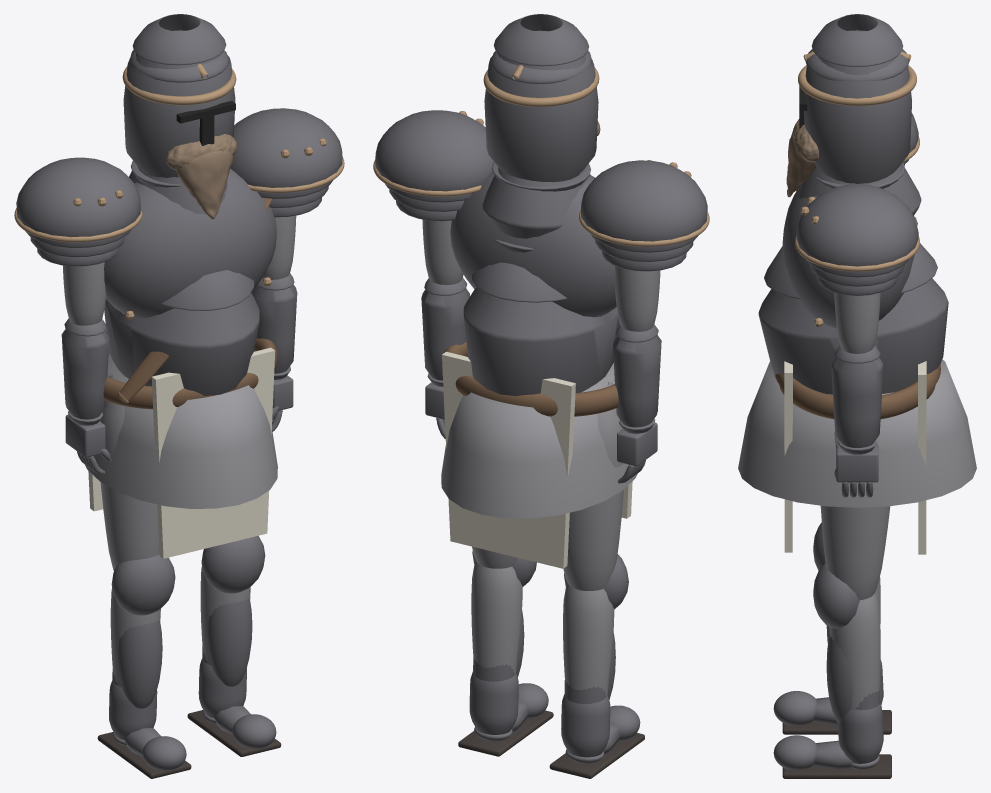
Rendered from Bastion.fbx.
3 views of the same model, side by side, from view 1: azimuth 30°, elevation 25°; view 2: azimuth 150°, elevation 25°; view 3: azimuth 270°, elevation 25° (orthographic).
Parts seen in each view (by area): view 1: Coraza pesada, Faldon claro, Yelmo, Tabardo, Hombrera_D_0, Hombrera_I_0, Femur_D, Brazal_D, Bota_I_ferrada, Bota_D_ferrada, Barba, Greba_D (+22 smaller); view 2: Coraza pesada, Faldon claro, Yelmo, Tabardo, Hombrera_D_0, Hombrera_I_0, Femur_D, Tibia_I, Tibia_D, Gola alta, Brazal_D, Bota_I_ferrada (+21 smaller); view 3: Faldon claro, Coraza pesada, Yelmo, Hombrera_I_0, Femur_I, Brazal_I, Bota_I_ferrada, Tibia_I, Tabardo, Humero_I, Cinturon, Rodillera_I (+13 smaller).
Part boxes in pixels (x1,y1,x2,y2): Coraza pesada: (104, 168, 276, 395); Faldon claro: (85, 354, 277, 508); Yelmo: (123, 14, 235, 187); Tabardo: (88, 329, 275, 558); Hombrera_D_0: (16, 157, 140, 237); Hombrera_I_0: (230, 108, 342, 187); Femur_D: (100, 375, 159, 570); Brazal_D: (61, 318, 109, 425); Bota_I_ferrada: (198, 658, 276, 749); Bota_D_ferrada: (109, 681, 186, 770); Barba: (166, 134, 237, 219); Greba_D: (117, 620, 162, 708); Coraza pesada: (450, 171, 620, 396); Faldon claro: (441, 363, 637, 518); Yelmo: (484, 14, 598, 191); Tabardo: (442, 351, 632, 568); Hombrera_D_0: (580, 160, 707, 241); Hombrera_I_0: (375, 110, 493, 191); Femur_D: (563, 382, 623, 590); Tibia_I: (471, 560, 522, 674); Tibia_D: (563, 582, 614, 696); Gola alta: (482, 167, 590, 252); Brazal_D: (613, 324, 661, 433); Bota_I_ferrada: (469, 672, 548, 741); Faldon claro: (738, 359, 976, 507); Coraza pesada: (758, 187, 948, 394); Yelmo: (804, 14, 911, 188); Hombrera_I_0: (796, 184, 918, 266); Femur_I: (820, 431, 890, 600); Brazal_I: (831, 345, 883, 454); Bota_I_ferrada: (773, 702, 883, 770); Tibia_I: (829, 592, 880, 709); Tabardo: (784, 361, 926, 554); Humero_I: (834, 292, 880, 353); Cinturon: (775, 364, 940, 419); Rodillera_I: (813, 563, 859, 628).
Size of the model in its own units: 0.9083 by 1.97 by 0.59.
